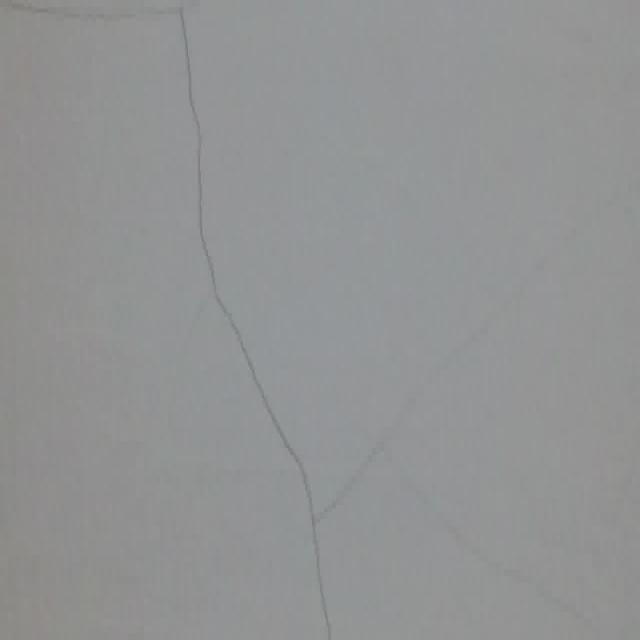Crack: (193, 0, 375, 636), (321, 272, 544, 516), (385, 452, 590, 627)
